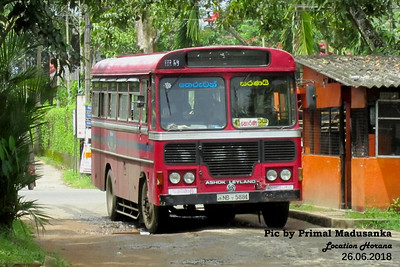bus: (89, 45, 303, 229)
